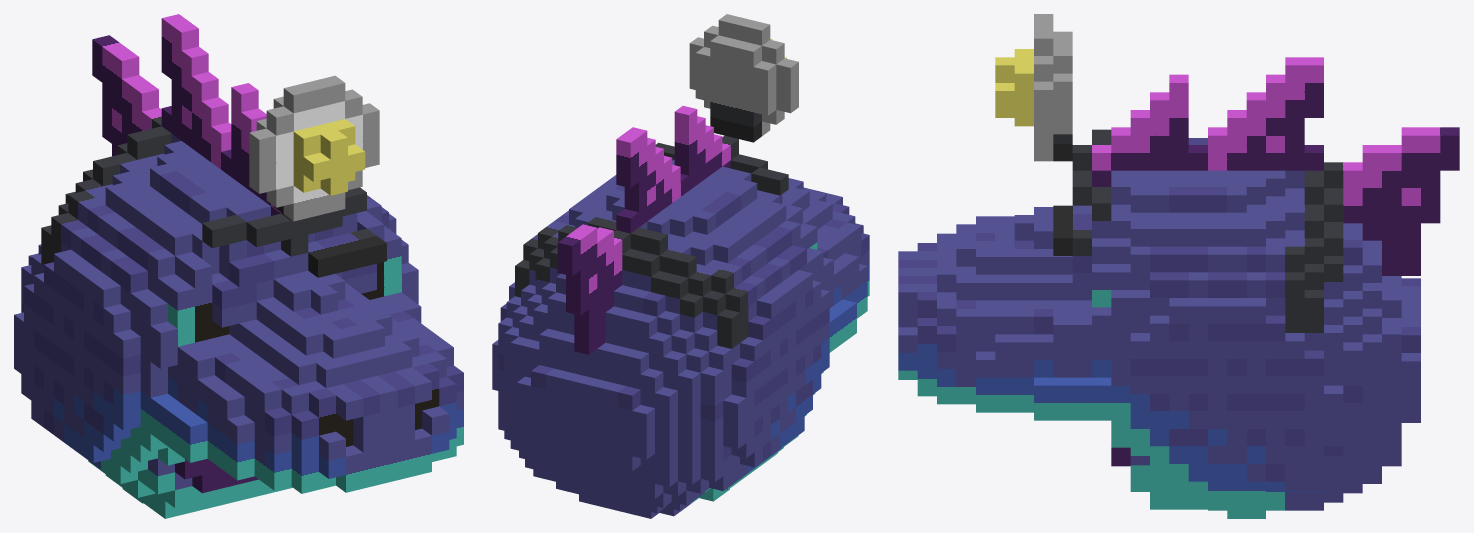
The model's file is doctor_lazer light.gltf.
3 views of the same model, side by side, from view 1: azimuth 30°, elevation 25°; view 2: azimuth 150°, elevation 25°; view 3: azimuth 270°, elevation 25° (orthographic). The views are drawn at different scales.
Parts seen in each view (by area): view 1: C16_H_DoctorL_LazerL_VRGg-Mesh; view 2: C16_H_DoctorL_LazerL_VRGg-Mesh; view 3: C16_H_DoctorL_LazerL_VRGg-Mesh.
Boxes of the visible parts, x1,y1,x2,y2 form: C16_H_DoctorL_LazerL_VRGg-Mesh: (14,14,463,518); C16_H_DoctorL_LazerL_VRGg-Mesh: (492,14,869,518); C16_H_DoctorL_LazerL_VRGg-Mesh: (898,14,1459,518).
Bounding box in the file's own units: 17 × 26 × 29.
1 material, 1 textured.
